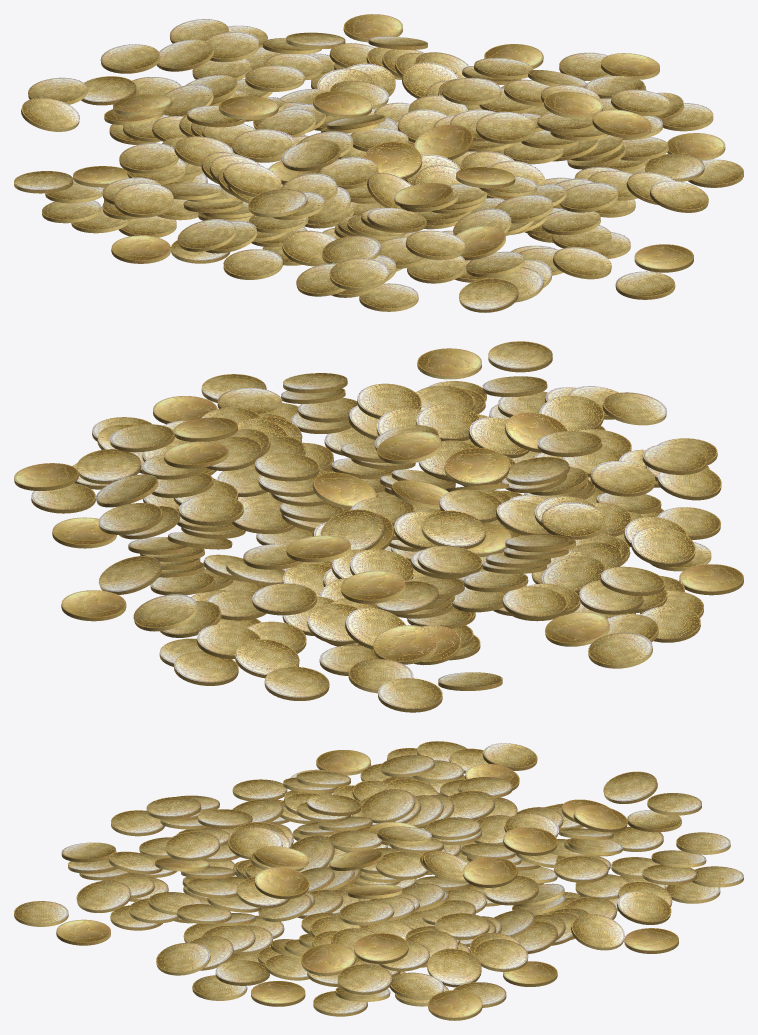
File: CoinPile.fbx
The picture shows the model from 3 angles, top to bottom: view 1: azimuth 30°, elevation 25°; view 2: azimuth 150°, elevation 25°; view 3: azimuth 270°, elevation 25°; orthographic projection. The views are drawn at different scales.
Parts seen in each view (by area): view 1: CoinPile; view 2: CoinPile; view 3: CoinPile.
Boxes of the visible parts, x1,y1,x2,y2 form: CoinPile: [14, 14, 743, 312]; CoinPile: [14, 341, 743, 712]; CoinPile: [14, 741, 743, 1020].
Bounding box in the file's own units: 47.83 × 2.36 × 53.34.
1 material, 1 textured.
